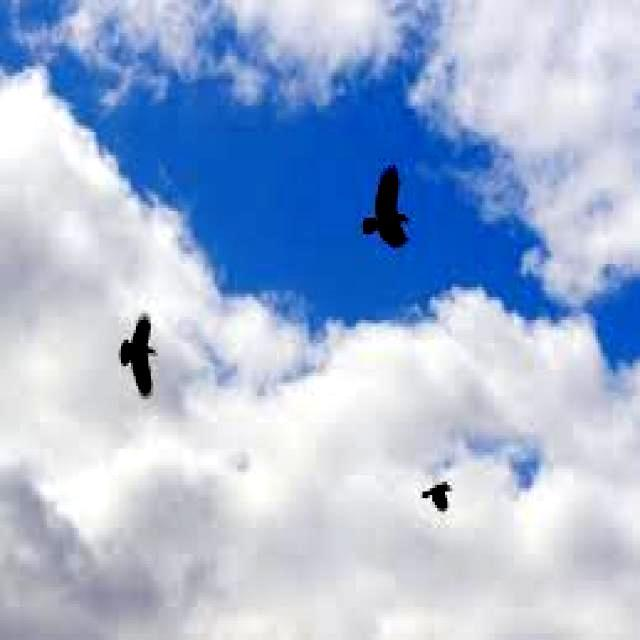bird: (361, 160, 418, 260), (116, 309, 164, 399), (420, 474, 460, 516)
